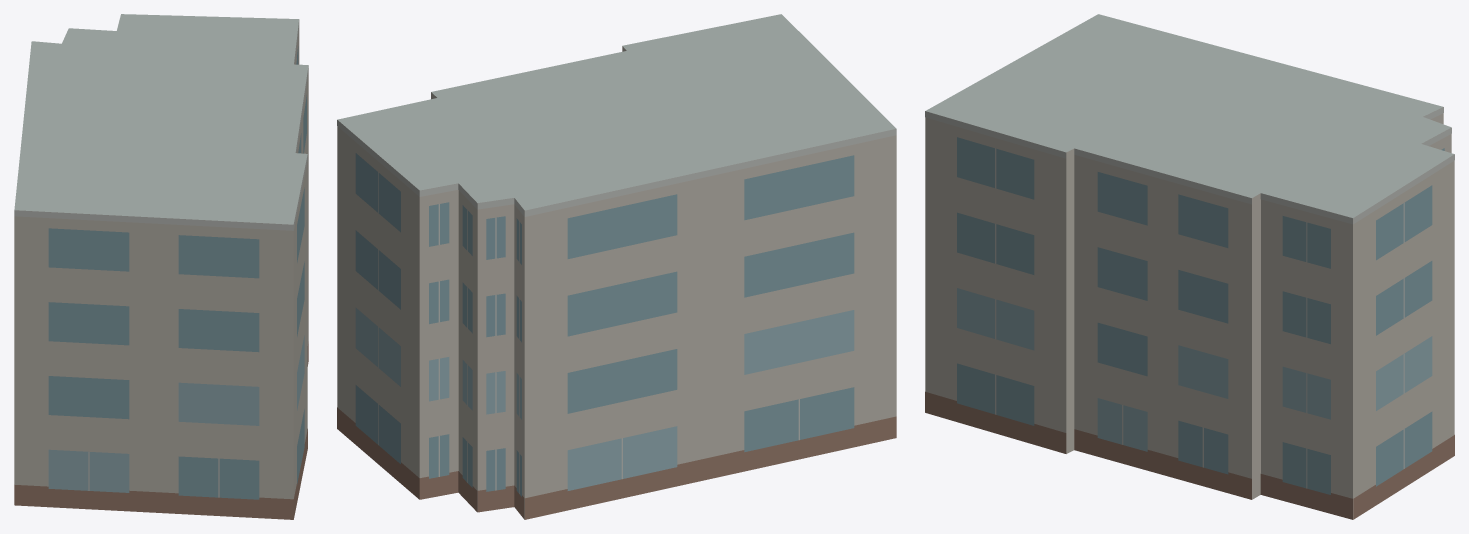
Rendered from survey-upis-32757005.glb.
3 renders of one model, left to right at view 1: azimuth 30°, elevation 25°; view 2: azimuth 150°, elevation 25°; view 3: azimuth 270°, elevation 25°, orthographic. The views are drawn at different scales.
Visible parts, largest first — view 1: survey-upis-32757005.tmp; view 2: survey-upis-32757005.tmp; view 3: survey-upis-32757005.tmp.
Boxes of the visible parts, x1,y1,x2,y2 form: survey-upis-32757005.tmp: [14, 14, 308, 519]; survey-upis-32757005.tmp: [337, 14, 896, 519]; survey-upis-32757005.tmp: [925, 14, 1454, 519].
Bounding box in the file's own units: 16.99 × 11.7 × 18.62.
